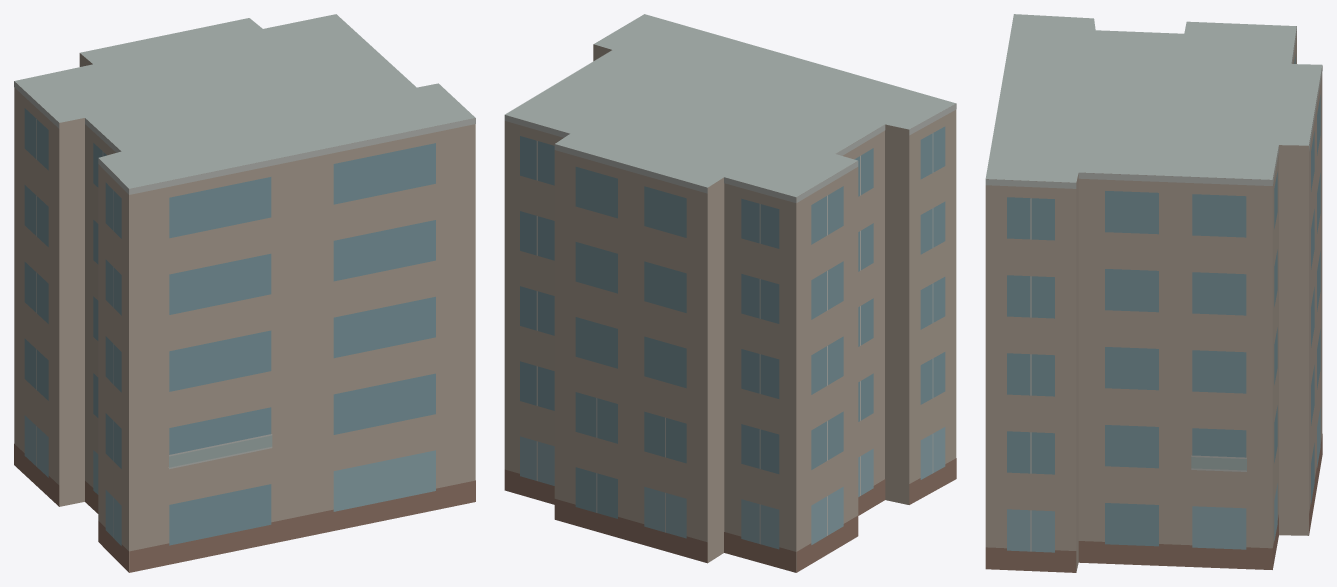
File: survey-upis-32632197.glb
3 renders of one model, left to right at view 1: azimuth 30°, elevation 25°; view 2: azimuth 150°, elevation 25°; view 3: azimuth 270°, elevation 25°, orthographic. The views are drawn at different scales.
Visible parts, largest first — view 1: survey-upis-32632197.tmp; view 2: survey-upis-32632197.tmp; view 3: survey-upis-32632197.tmp.
Boxes of the visible parts, <box> form: survey-upis-32632197.tmp: <box>14,14,475,572</box>; survey-upis-32632197.tmp: <box>504,14,956,572</box>; survey-upis-32632197.tmp: <box>985,14,1322,572</box>.
Size of the model in its own units: 14.15 by 15.25 by 11.94.
